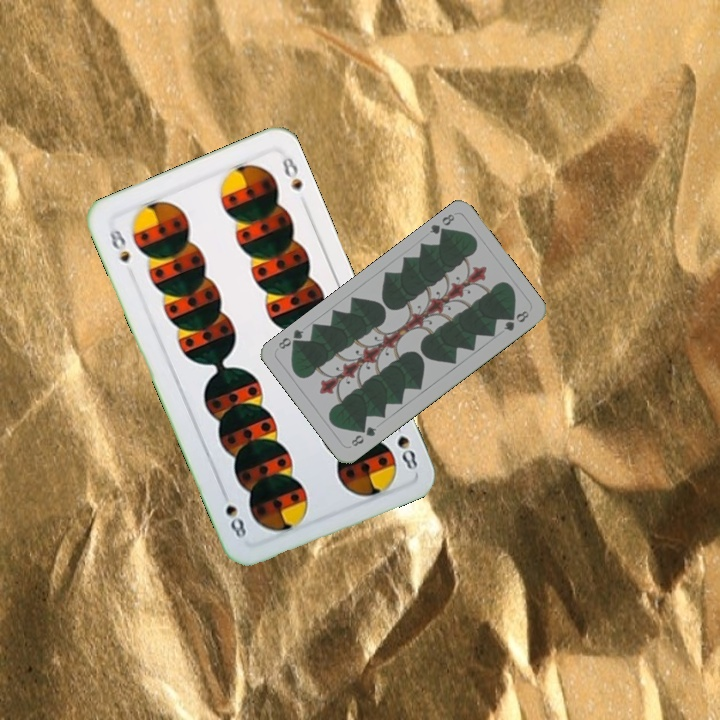G8: (425, 210, 457, 240), (347, 422, 379, 449)
S8: (389, 416, 421, 473), (105, 225, 133, 266)
